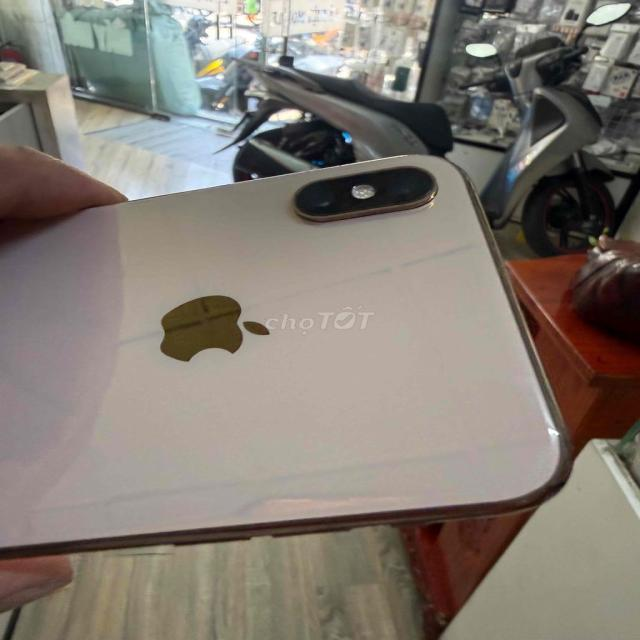gen_x_xs: (8, 148, 569, 569)
